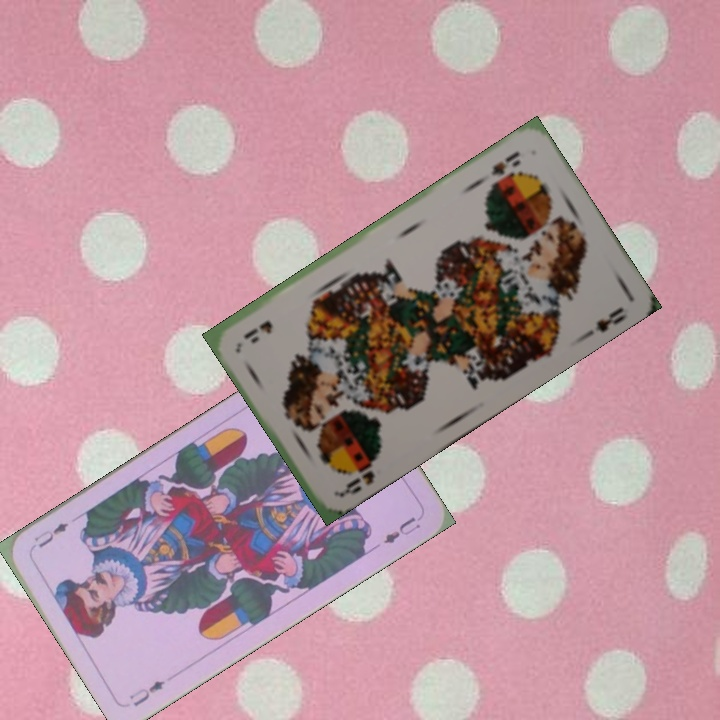EU: (124, 676, 167, 709)
SO: (333, 451, 381, 499), (487, 147, 524, 178)
